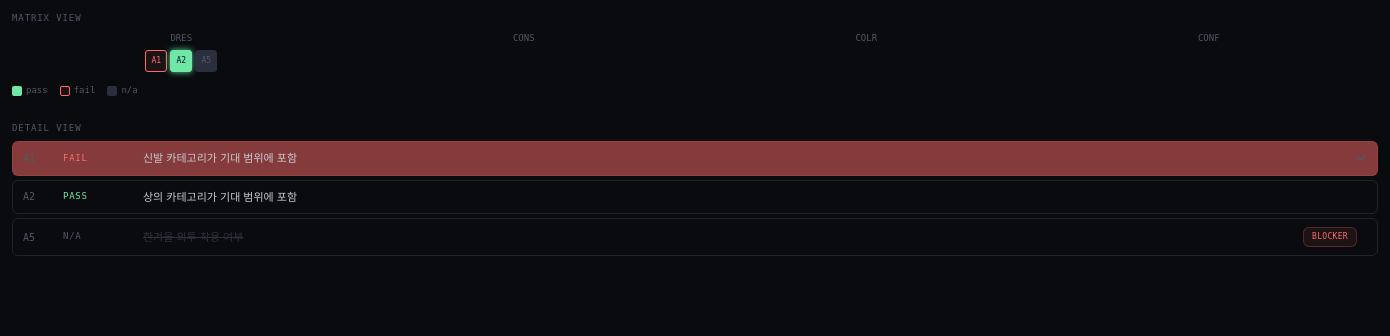
ChecklistSection › expands evidence_facts on fail item click
Expected: the text "착용 신발: 로퍼" is not shown
Step 1. Click the button "A1 fail 신발 카테고리가 기대 범위에 포함" → x=220, y=158, box 13,142 -> 1377,174
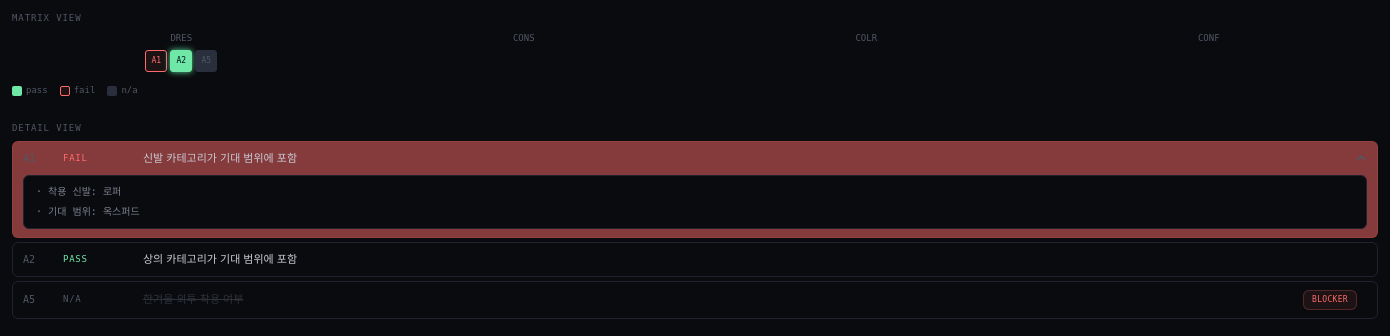
Expected: the list item "· 착용 신발: 로퍼" is shown, 36,186 -> 121,196
